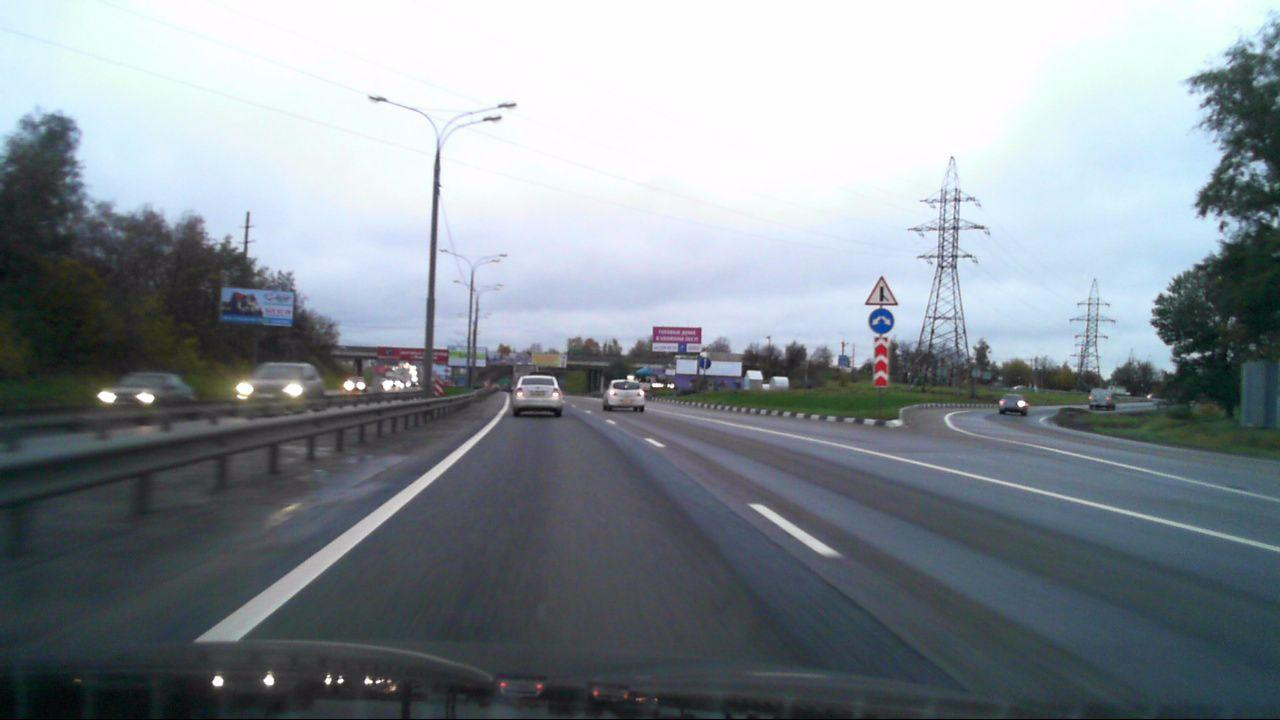2_3_6: (863, 275, 898, 306)
4_1_1: (698, 355, 712, 371)
4_2_3: (869, 309, 896, 334)
8_22_3: (870, 336, 893, 387)
